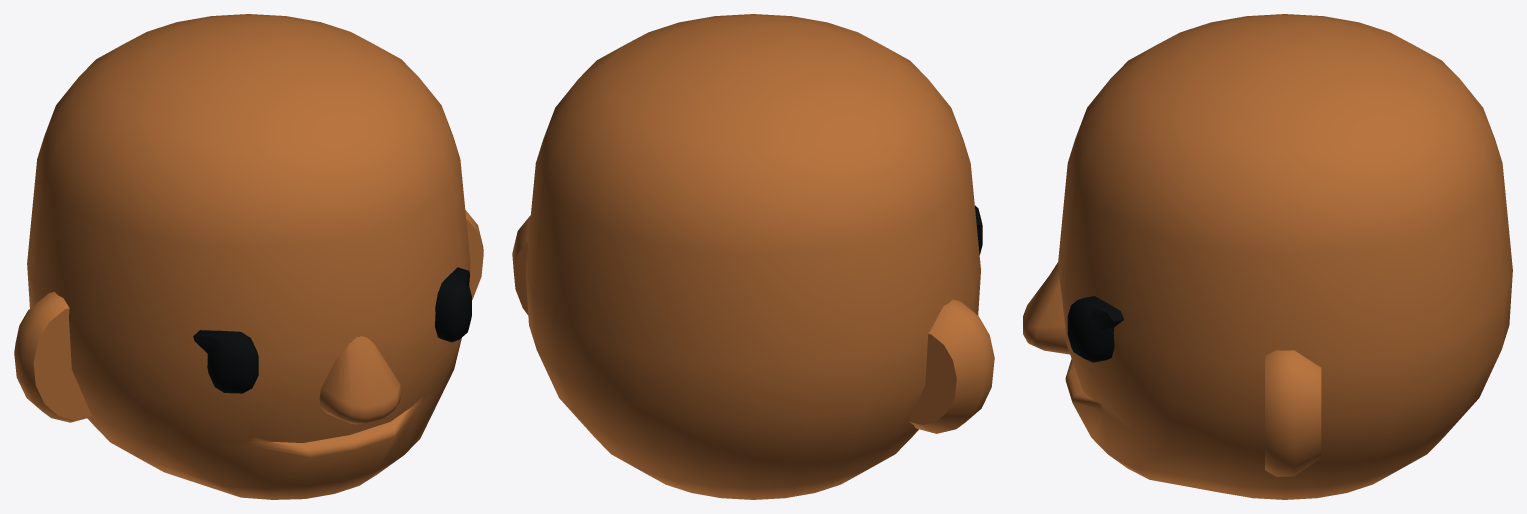
File: rogueHeadC.obj
The picture shows the model from 3 angles, left to right: view 1: azimuth 30°, elevation 25°; view 2: azimuth 150°, elevation 25°; view 3: azimuth 270°, elevation 25°; orthographic projection. The views are drawn at different scales.
Parts seen in each view (by area): view 1: rogueHeadC_Cube.3528; view 2: rogueHeadC_Cube.3528; view 3: rogueHeadC_Cube.3528.
Part boxes in pixels (x1=…): rogueHeadC_Cube.3528: x1=14, y1=14, x2=483, y2=499; rogueHeadC_Cube.3528: x1=512, y1=14, x2=994, y2=499; rogueHeadC_Cube.3528: x1=1023, y1=14, x2=1512, y2=499.
Size of the model in its own units: 1.18 by 0.9703 by 1.05.
